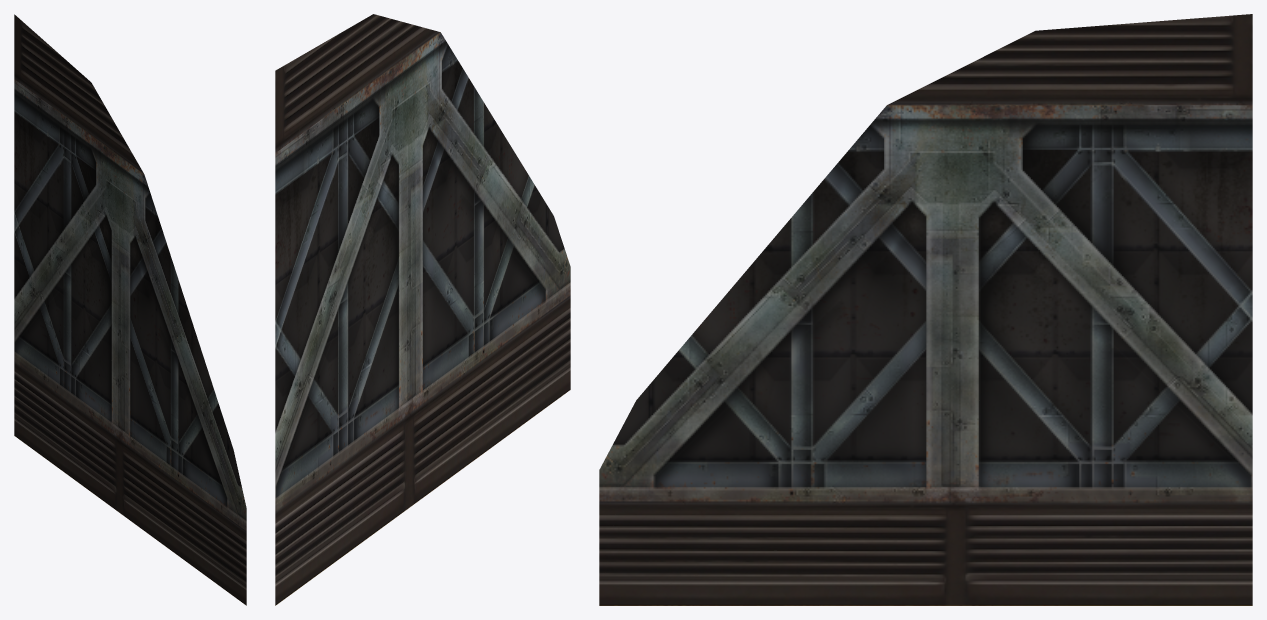
Rendered from Wall_A_Short2mts_09.fbx.
The picture shows the model from 3 angles, left to right: view 1: azimuth 30°, elevation 25°; view 2: azimuth 150°, elevation 25°; view 3: azimuth 270°, elevation 25°; orthographic projection. The views are drawn at different scales.
Visible parts, largest first — view 1: Wall_A_Short2mts_09; view 2: Wall_A_Short2mts_09; view 3: Wall_A_Short2mts_09.
Part boxes in pixels (x1,y1,x2,y2): Wall_A_Short2mts_09: [14, 14, 246, 605]; Wall_A_Short2mts_09: [275, 14, 570, 605]; Wall_A_Short2mts_09: [599, 14, 1252, 605].
Bounding box in the file's own units: 0.000105 × 200 × 200.
Materials: 1 (1 with a texture image).
